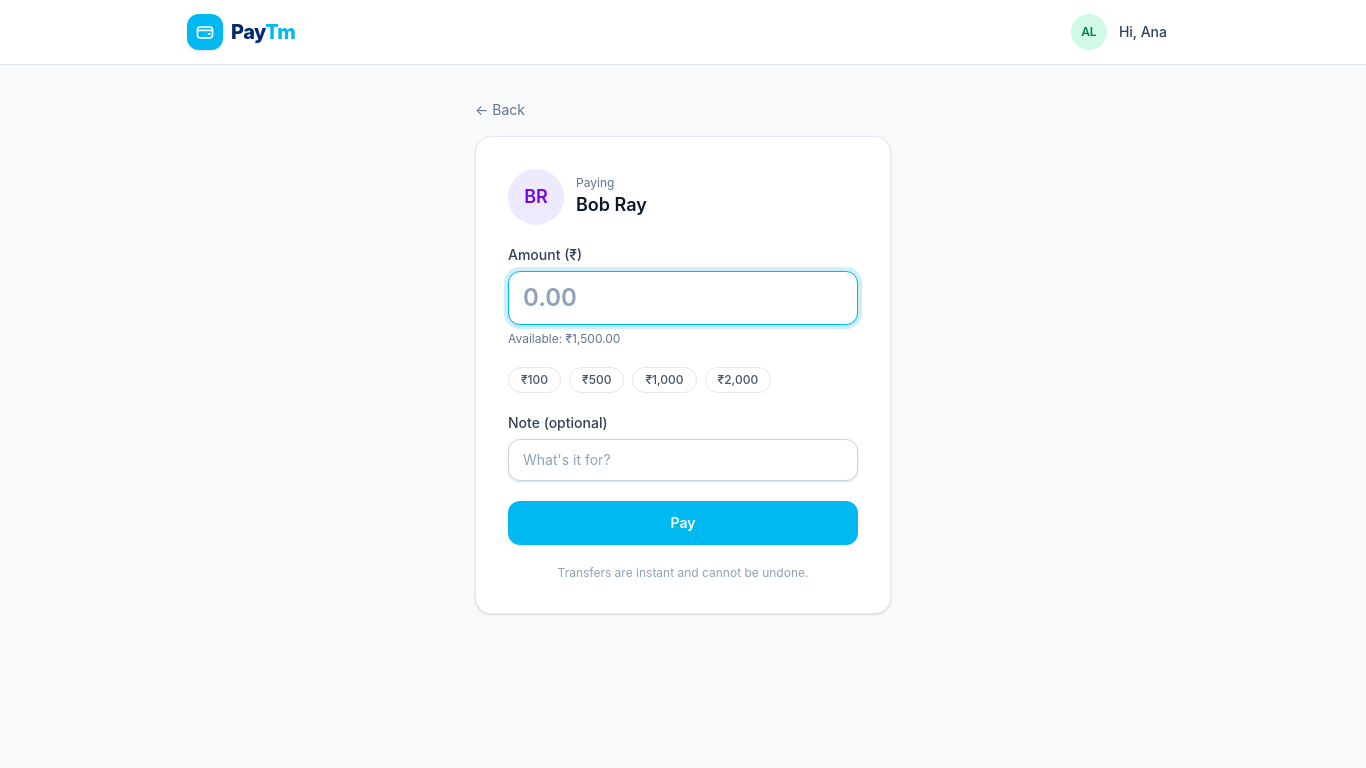
SendMoney › sends money and shows a receipt with the new balance
Expected: the text "Available: ₹1,500.00" is shown, [508, 331, 620, 346]
Type "250.50" into the field labelled "Amount (₹)" at (683, 298), box [508, 271, 858, 325]
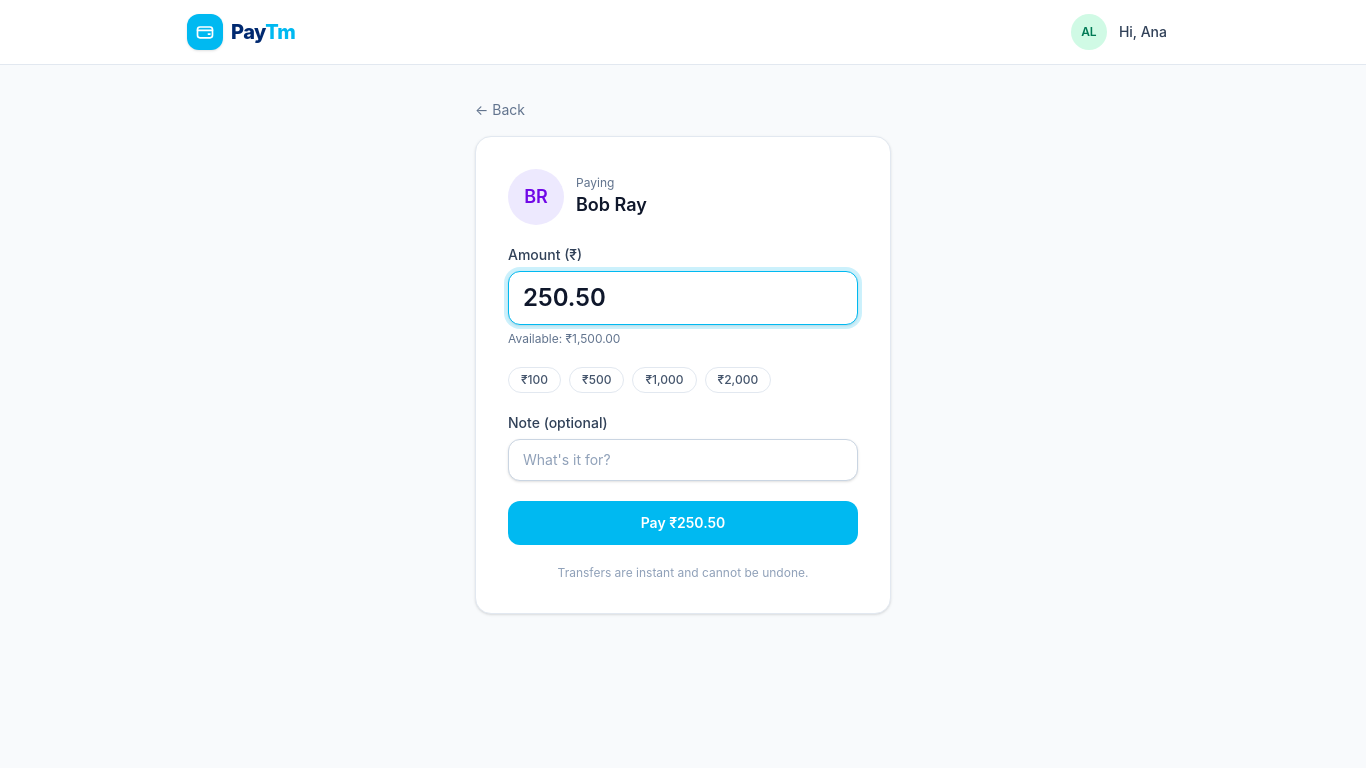
Type "Dinner" into the field labelled "Note (optional)" at (683, 460), box [508, 439, 858, 481]
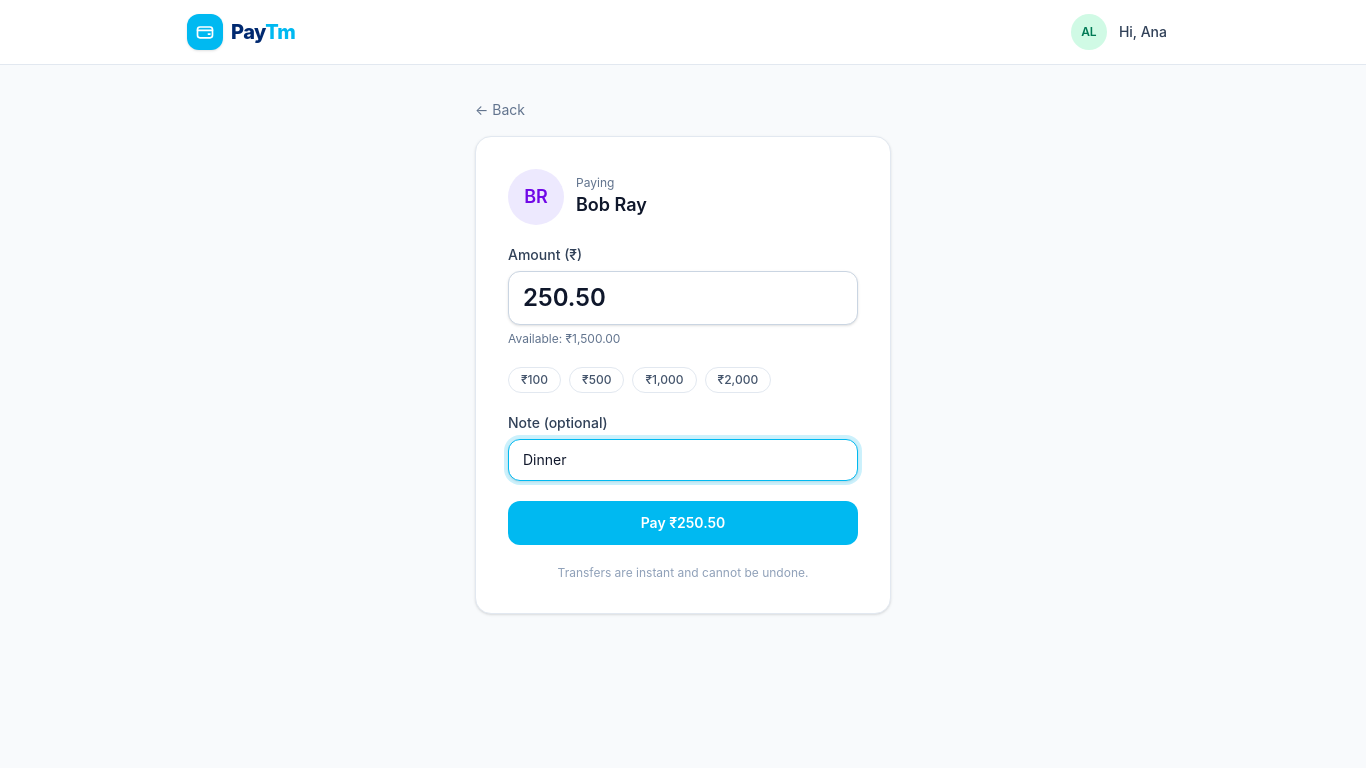
Click the button "Pay ₹250.50" at (683, 523), box [508, 501, 858, 545]
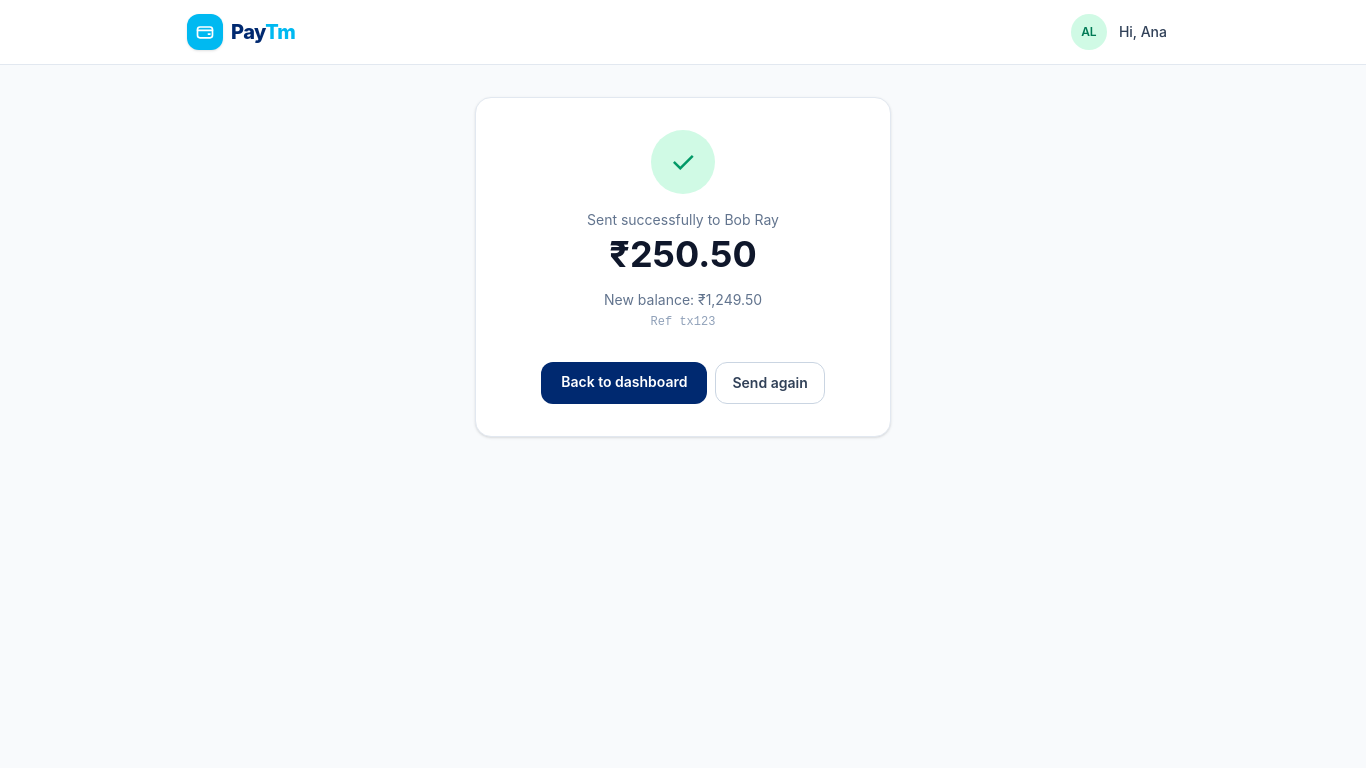
Now the text "Sent successfully to Bob Ray" is shown, box [587, 211, 779, 228]
Now the text "New balance: ₹1,249.50" is shown, box [604, 291, 762, 308]
